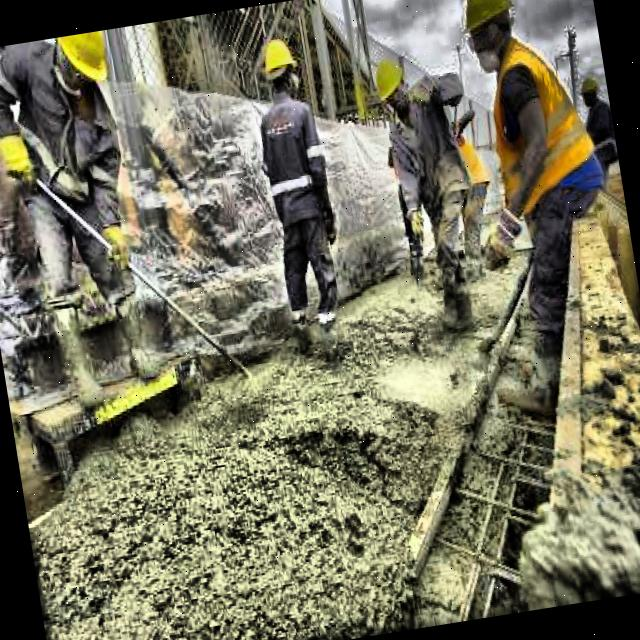helmet: (51, 32, 120, 112), (453, 0, 524, 72), (366, 43, 416, 121), (258, 32, 302, 104), (576, 73, 602, 114)
